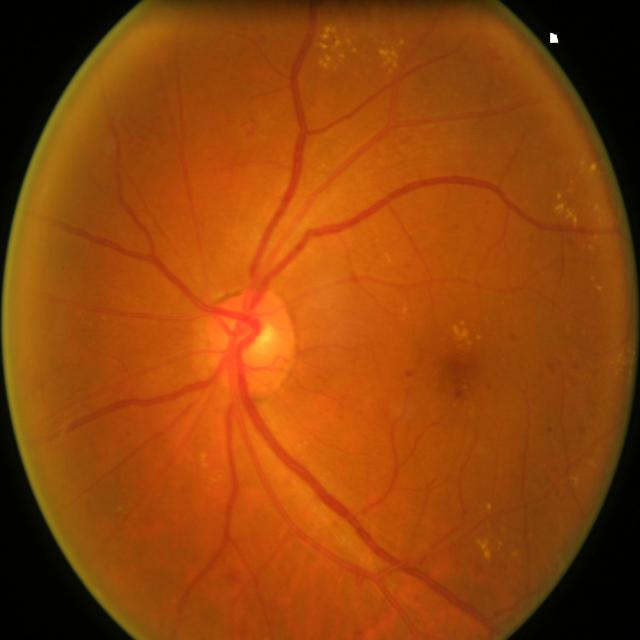OC: (235, 319, 279, 367)
OD: (202, 289, 294, 398)
